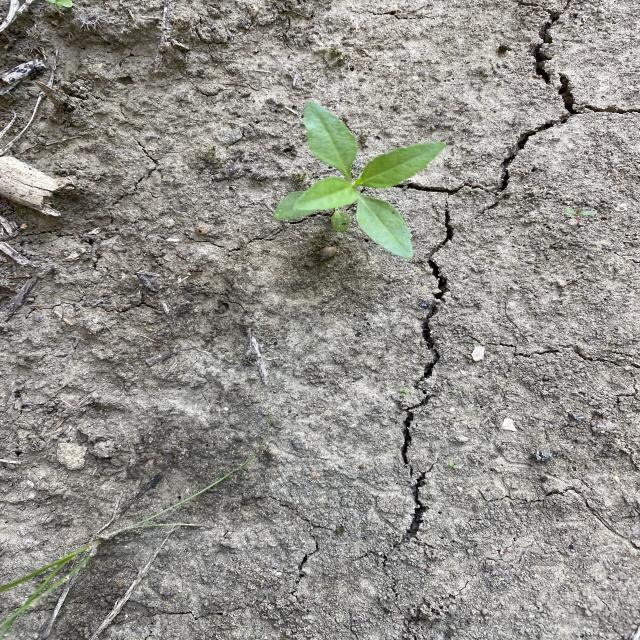Eclipta: (271, 98, 448, 262)
